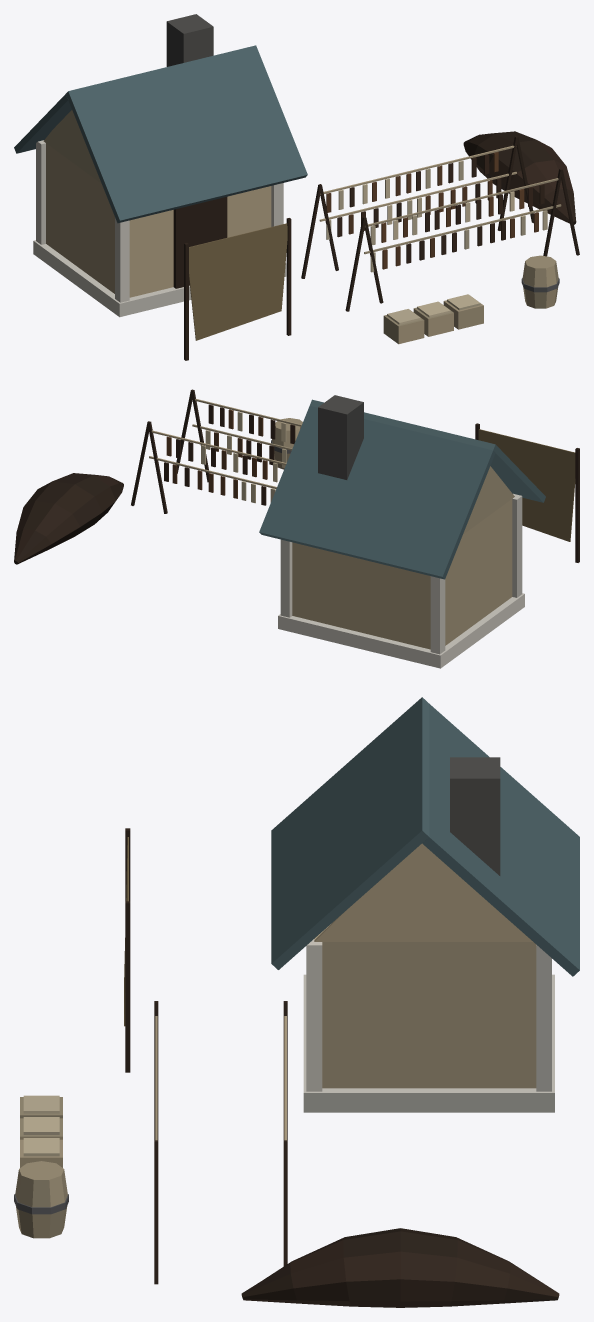
The model's file is walk_veiled_fishery.glb.
3 renders of one model, top to bottom at view 1: azimuth 30°, elevation 25°; view 2: azimuth 150°, elevation 25°; view 3: azimuth 270°, elevation 25°, orthographic. The views are drawn at different scales.
Parts seen in each view (by area): view 1: walk_veiled_fishery, walk_veiled_fishery_roof; view 2: walk_veiled_fishery, walk_veiled_fishery_roof; view 3: walk_veiled_fishery, walk_veiled_fishery_roof.
Boxes of the visible parts, x1,y1,x2,y2 form: walk_veiled_fishery: (33,110,579,360); walk_veiled_fishery_roof: (14,14,307,223); walk_veiled_fishery: (14,389,579,668); walk_veiled_fishery_roof: (259,395,545,579); walk_veiled_fishery: (14,828,559,1307); walk_veiled_fishery_roof: (271,697,579,976).
Size of what is drawn, in the model's own units: 11.15 by 4.9 by 7.88.
2 materials, 2 textured.
